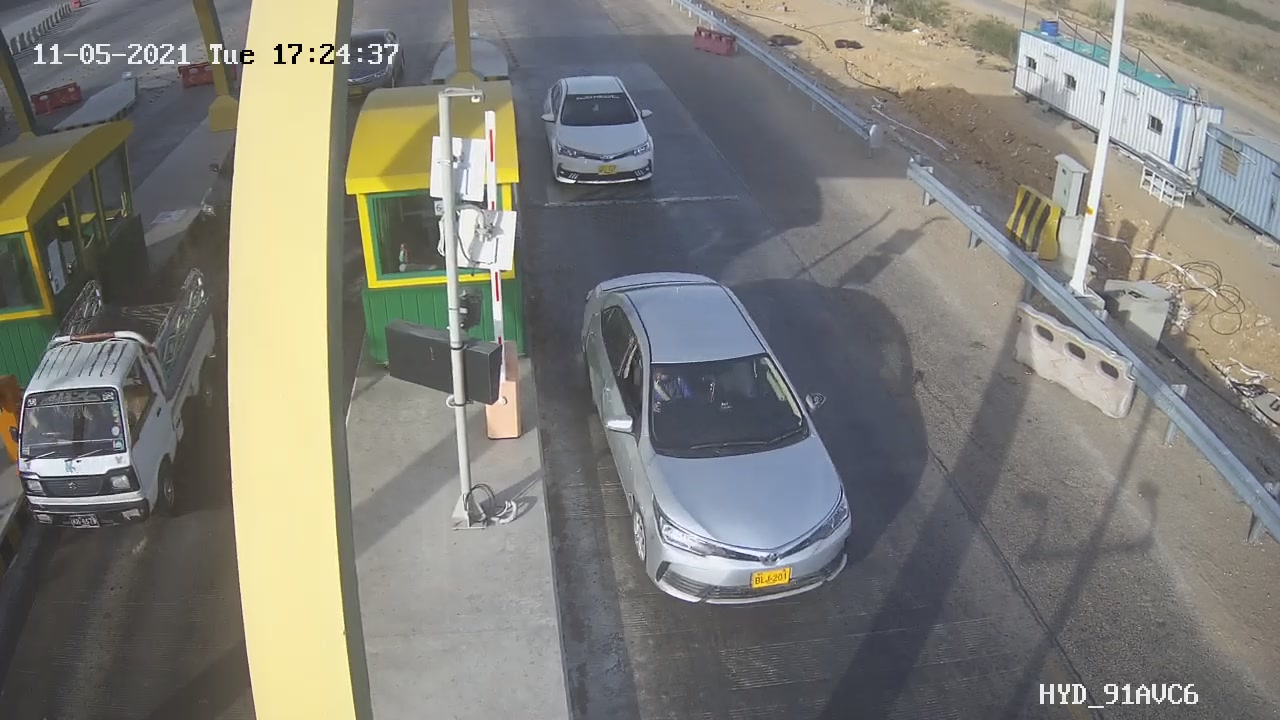F1: (524, 60, 678, 205)
